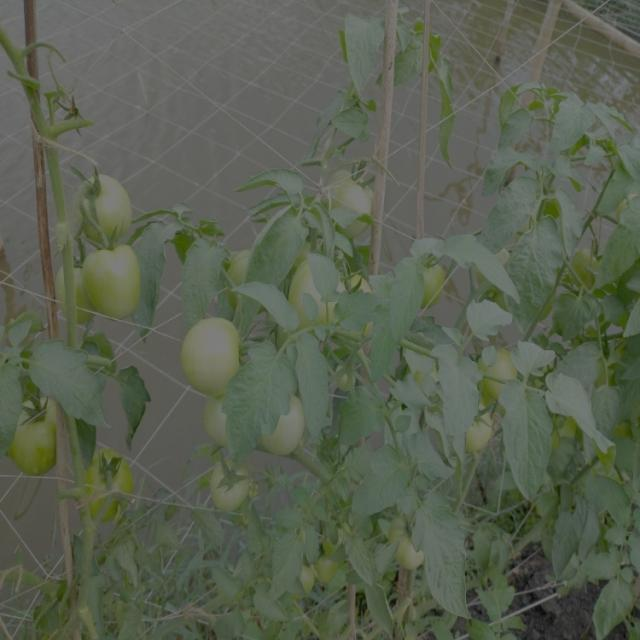tomato: (70, 166, 135, 246), (179, 314, 244, 394), (84, 243, 149, 317), (78, 446, 138, 524), (325, 163, 385, 233), (288, 249, 339, 328), (17, 394, 62, 476), (261, 388, 307, 459), (479, 337, 525, 399), (336, 264, 373, 329), (214, 460, 256, 516), (461, 403, 503, 456), (221, 244, 261, 298), (392, 517, 430, 570), (421, 251, 449, 309), (56, 260, 86, 310), (208, 397, 238, 447), (323, 512, 357, 552), (550, 410, 582, 450), (291, 557, 320, 601), (334, 361, 358, 395), (316, 559, 341, 590)
